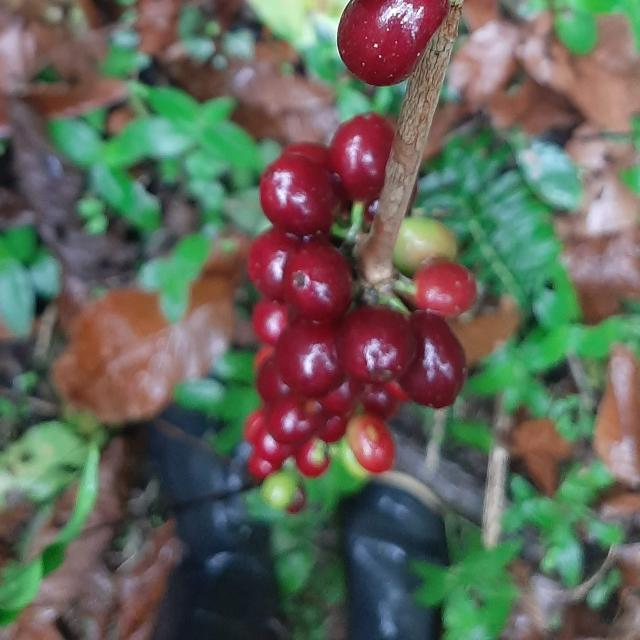red: (338, 0, 449, 85), (399, 312, 468, 409), (260, 154, 337, 236), (338, 306, 417, 385), (283, 237, 353, 321), (331, 112, 395, 201), (276, 317, 344, 399), (248, 228, 299, 301), (414, 259, 477, 318), (252, 298, 288, 345), (280, 141, 332, 171)
